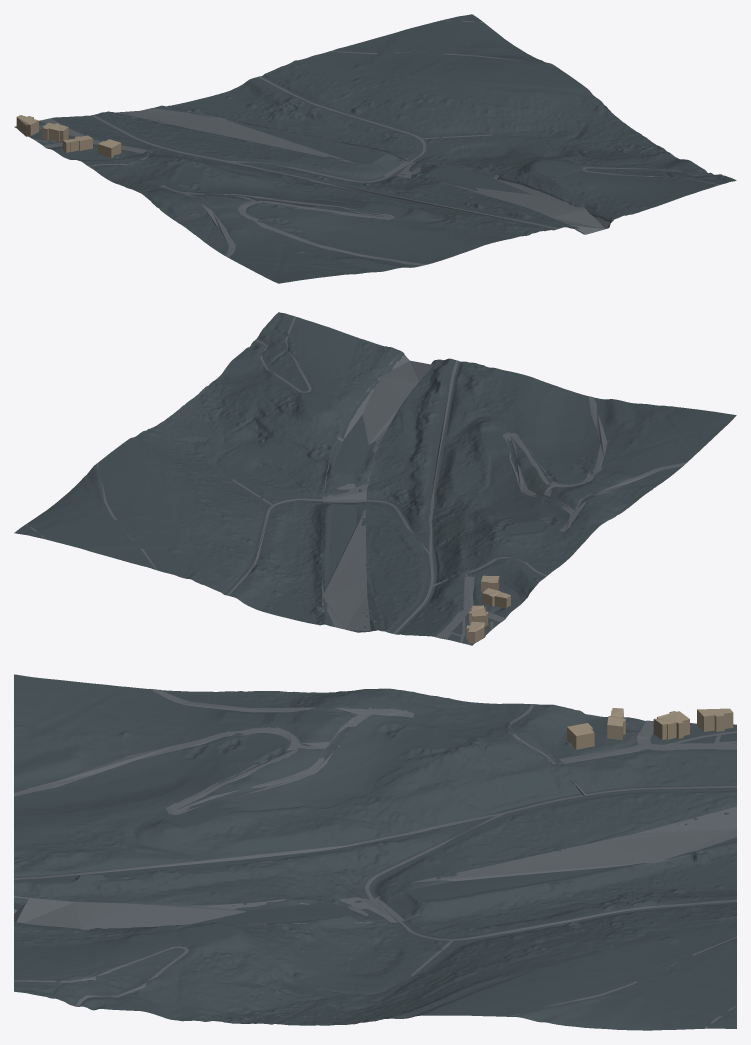
File: epsg26910-1423-10892.lod0.glb
3 views of the same model, one above another, from view 1: azimuth 30°, elevation 25°; view 2: azimuth 150°, elevation 25°; view 3: azimuth 270°, elevation 25° (orthographic). The views are drawn at different scales.
Parts seen in each view (by area): view 1: epsg26910-1423-10892-lod0; view 2: epsg26910-1423-10892-lod0; view 3: epsg26910-1423-10892-lod0.
Boxes of the visible parts, x1=… form: epsg26910-1423-10892-lod0: x1=14, y1=14, x2=736, y2=283; epsg26910-1423-10892-lod0: x1=14, y1=312, x2=736, y2=645; epsg26910-1423-10892-lod0: x1=14, y1=674, x2=736, y2=1030.
Size of the model in its own units: 384 by 43.52 by 384.
